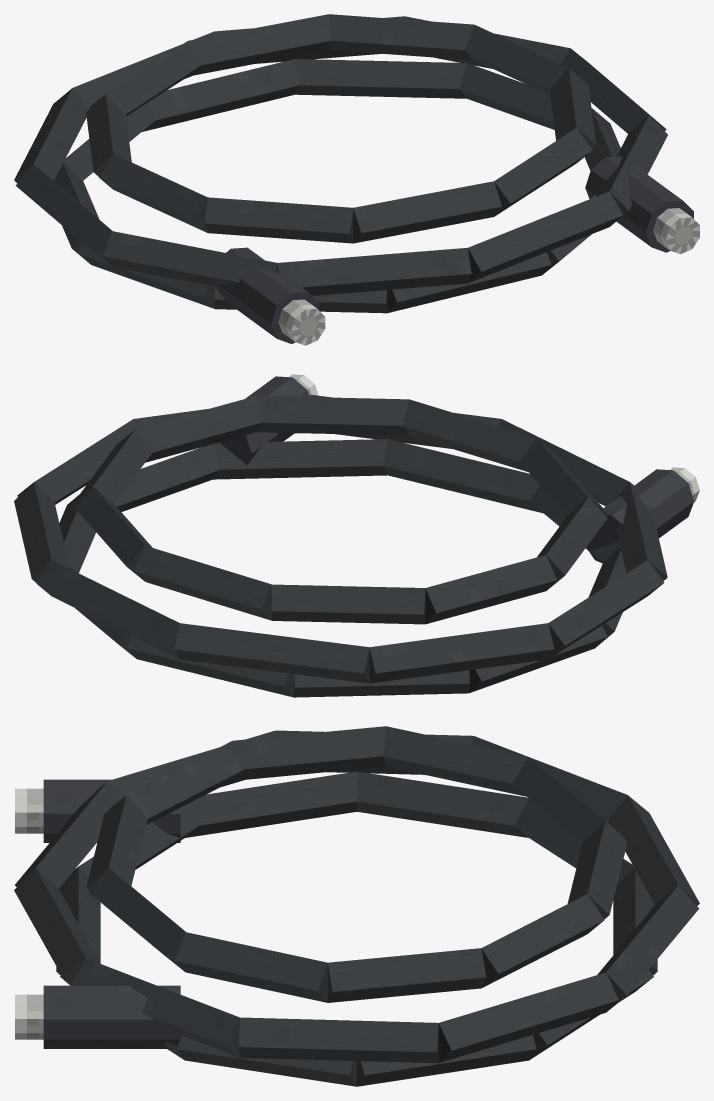
Rendered from cable_speaker.glb.
The picture shows the model from 3 angles, top to bottom: view 1: azimuth 30°, elevation 25°; view 2: azimuth 150°, elevation 25°; view 3: azimuth 270°, elevation 25°; orthographic projection. The views are drawn at different scales.
Parts seen in each view (by area): view 1: block_connector shell (×2), block_coiled length1-1, block_coiled length0-8, block_coiled length2-0, block_coiled length1-0, block_coiled length0-7, block_coiled length2-9, block_coiled length1-2, block_coiled length2-5, block_coiled length2-4, block_coiled length2-1, block_coiled length2-6 (+19 smaller); view 2: block_coiled length1-5, block_coiled length1-4, block_coiled length0-1, block_coiled length2-3, block_coiled length0-2, block_connector shell (×2), block_coiled length2-8, block_coiled length1-6, block_coiled length2-4, block_coiled length2-2, block_coiled length2-9, block_coiled length2-7 (+18 smaller); view 3: block_connector shell (×2), block_coiled length1-8, block_coiled length1-7, block_coiled length0-5, block_coiled length0-4, block_coiled length2-6, block_coiled length2-7, block_coiled length2-1, block_coiled length2-2, block_coiled length1-9, block_coiled length2-5, block_coiled length1-6 (+19 smaller).
Part boxes in pixels (x1,y1,x2,y2): block_connector shell (×2): (213, 156, 693, 343); block_coiled length1-1: (277, 247, 471, 295); block_coiled length0-8: (295, 59, 466, 98); block_coiled length2-0: (204, 197, 353, 243); block_coiled length1-0: (468, 191, 622, 283); block_coiled length0-7: (142, 59, 299, 131); block_coiled length2-9: (353, 181, 501, 243); block_coiled length1-2: (103, 231, 277, 286); block_coiled length2-5: (329, 14, 473, 60); block_coiled length2-4: (188, 14, 331, 76); block_coiled length2-1: (99, 154, 207, 232); block_coiled length2-6: (464, 24, 583, 94); block_coiled length1-5: (174, 623, 369, 683); block_coiled length1-4: (369, 623, 554, 683); block_coiled length0-1: (213, 439, 387, 479); block_coiled length2-3: (271, 584, 425, 624); block_coiled length0-2: (383, 439, 543, 513); block_connector shell (×2): (218, 376, 694, 563); block_coiled length2-8: (256, 396, 409, 435); block_coiled length1-6: (36, 560, 179, 658); block_coiled length2-4: (133, 545, 272, 620); block_coiled length2-2: (425, 555, 556, 624); block_coiled length2-9: (402, 399, 535, 471); block_coiled length2-7: (136, 396, 261, 462); block_connector shell (×2): (43, 779, 180, 1048); block_coiled length1-8: (238, 1017, 438, 1063); block_coiled length1-7: (438, 972, 618, 1062); block_coiled length0-5: (357, 771, 528, 837); block_coiled length0-4: (185, 771, 356, 837); block_coiled length2-6: (328, 948, 486, 1002); block_coiled length2-7: (175, 932, 327, 1002); block_coiled length2-1: (233, 726, 385, 780); block_coiled length2-2: (383, 726, 528, 796); block_coiled length1-9: (71, 958, 239, 1057); block_coiled length2-5: (481, 894, 604, 987); block_coiled length1-6: (597, 885, 699, 1011).
Bounding box in the file's own units: 0.2358 × 0.0371 × 0.2197.
Materials: 1 (1 with a texture image).
